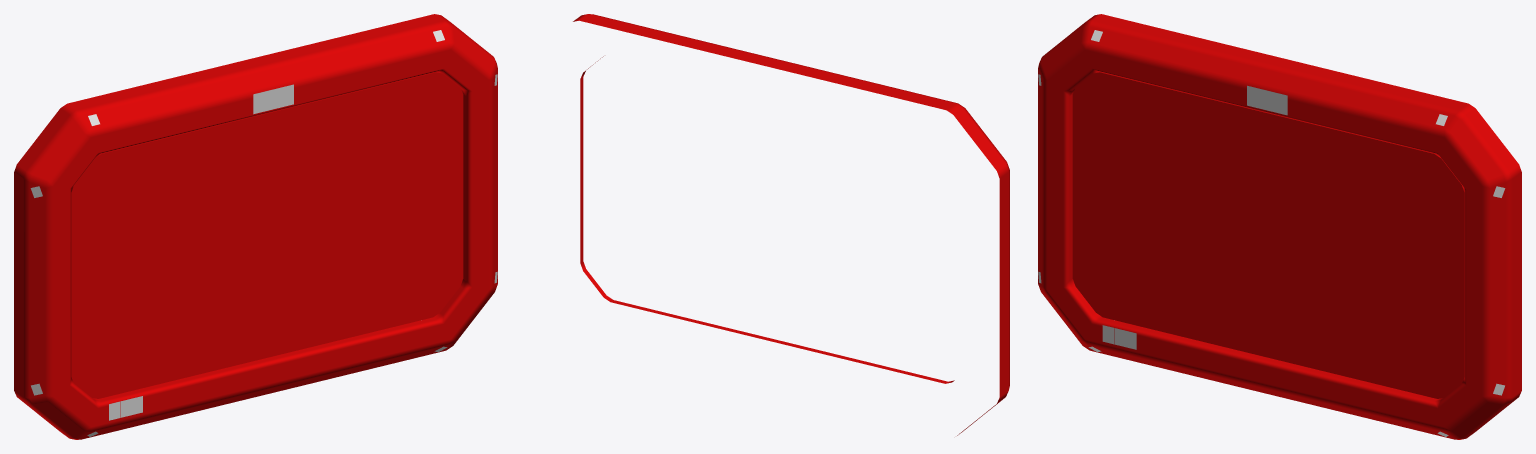
The model's file is mirror.glb.
The picture shows the model from 3 angles, left to right: view 1: azimuth 30°, elevation 25°; view 2: azimuth 150°, elevation 25°; view 3: azimuth 330°, elevation 25°; orthographic projection.
Visible parts, largest first — view 1: mirror, mirror_frame, mirror_decals; view 2: mirror_frame; view 3: mirror, mirror_frame, mirror_decals.
Part boxes in pixels (bbox=[...]): mirror: bbox=[71, 72, 463, 398]; mirror_frame: bbox=[14, 14, 497, 439]; mirror_decals: bbox=[30, 30, 497, 436]; mirror_frame: bbox=[573, 14, 1009, 435]; mirror: bbox=[1072, 72, 1464, 398]; mirror_frame: bbox=[1038, 14, 1521, 439]; mirror_decals: bbox=[1038, 30, 1505, 436].
Size of the model in its own units: 1.19 by 0.7911 by 0.0884.
